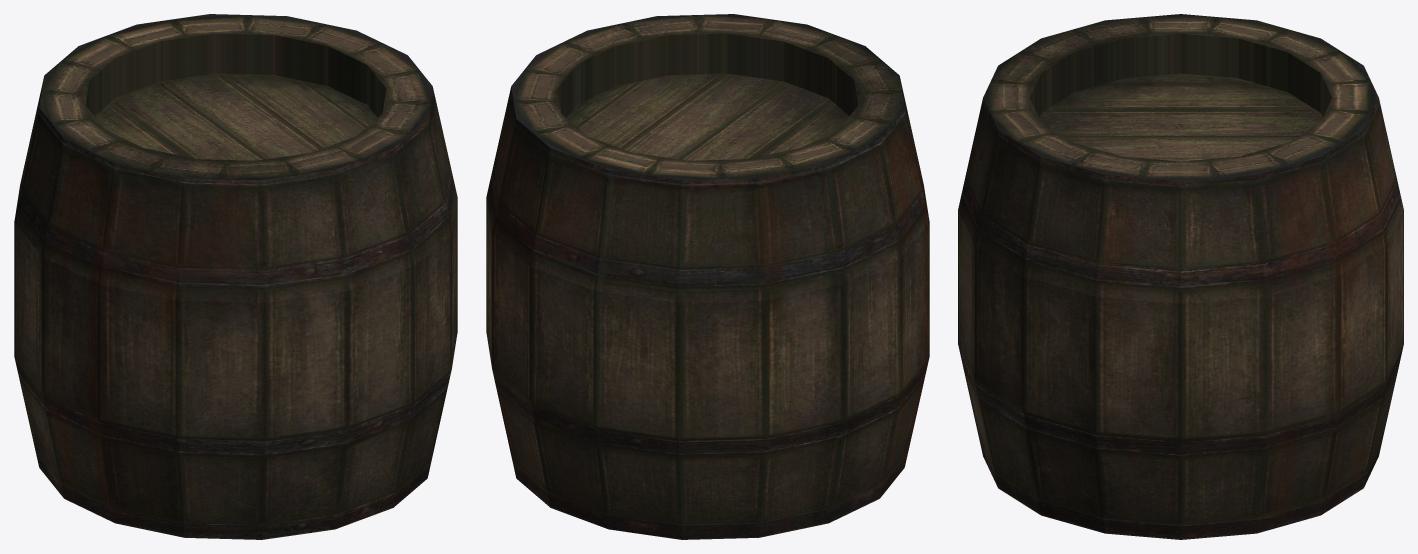
Rendered from Barril Nashe.fbx.
The picture shows the model from 3 angles, left to right: view 1: azimuth 30°, elevation 25°; view 2: azimuth 150°, elevation 25°; view 3: azimuth 270°, elevation 25°; orthographic projection.
Visible parts, largest first — view 1: Cylinder; view 2: Cylinder; view 3: Cylinder.
Part boxes in pixels (bbox=[...]): Cylinder: bbox=[14, 14, 457, 539]; Cylinder: bbox=[486, 14, 929, 539]; Cylinder: bbox=[958, 14, 1403, 539].
Size of the model in its own units: 231 by 206 by 231.
Materials: 1 (1 with a texture image).
